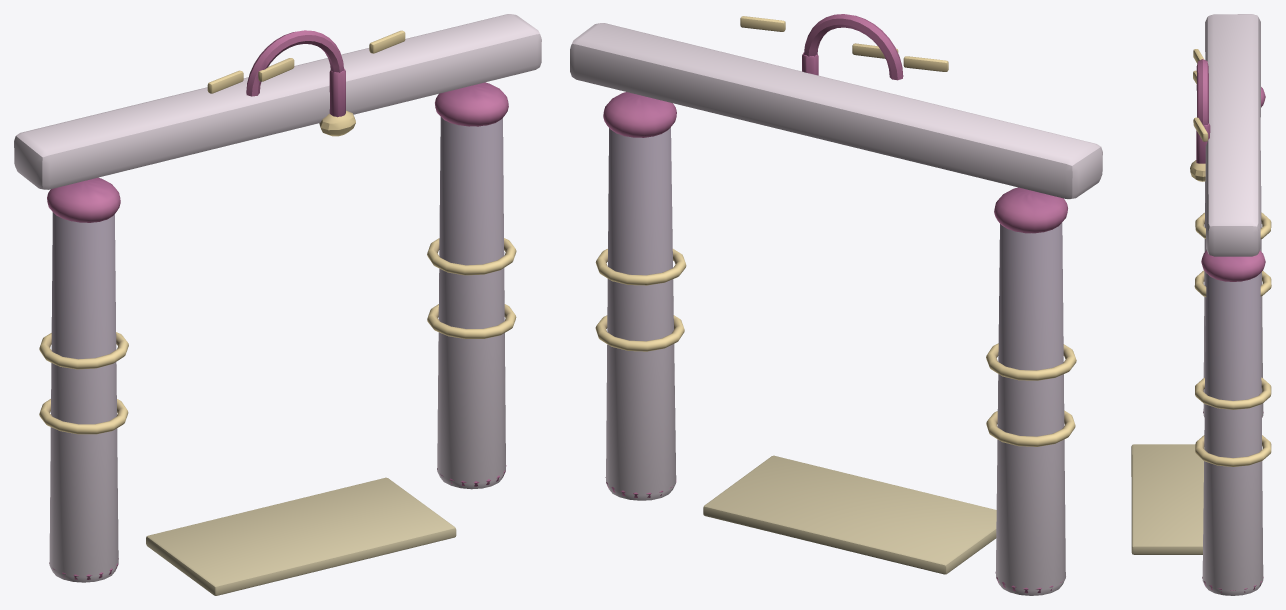
3 renders of one model, left to right at view 1: azimuth 30°, elevation 25°; view 2: azimuth 150°, elevation 25°; view 3: azimuth 270°, elevation 25°, orthographic. The views are drawn at different scales.
Parts seen in each view (by area): view 1: gate_0adccff5; view 2: gate_0adccff5; view 3: gate_0adccff5.
Part boxes in pixels (<box>): gate_0adccff5: <box>14,14,541,595</box>; gate_0adccff5: <box>570,14,1102,595</box>; gate_0adccff5: <box>1131,14,1271,595</box>.
Bounding box in the file's own units: 5 × 4.83 × 1.38.
